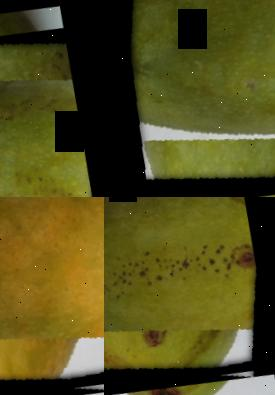PartiallyRipe: (0, 197, 104, 395)
Unripe: (104, 197, 275, 395), (104, 0, 275, 197), (0, 22, 104, 197)
